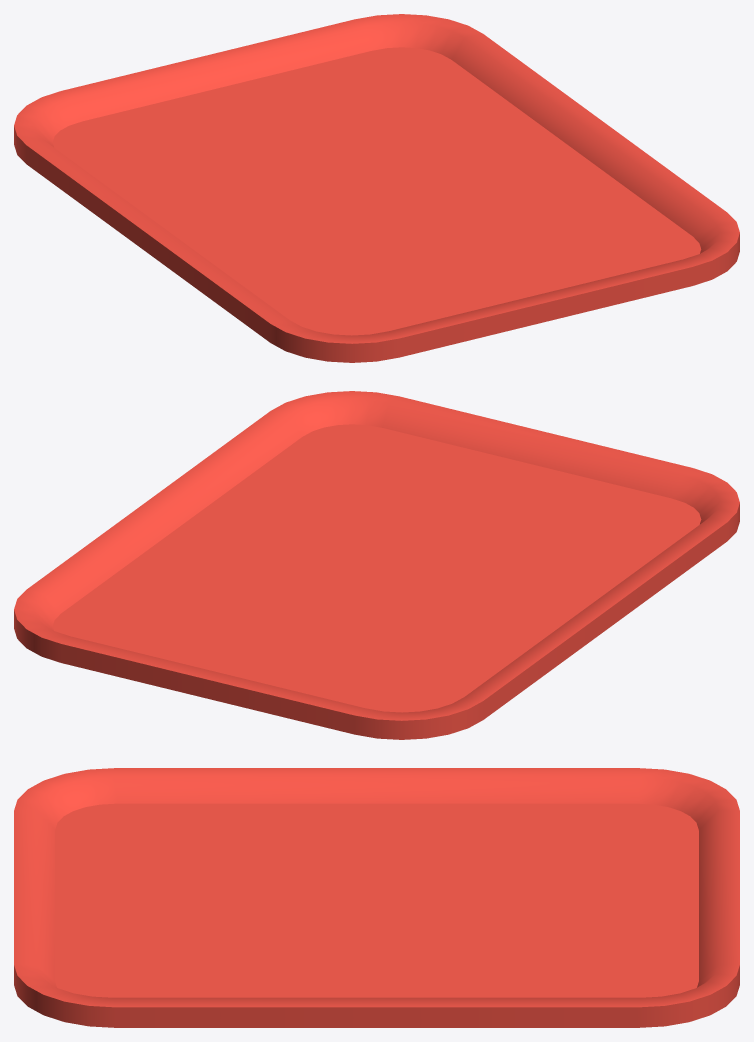
Rendered from prop_tray.fbx.
3 renders of one model, top to bottom at view 1: azimuth 30°, elevation 25°; view 2: azimuth 150°, elevation 25°; view 3: azimuth 270°, elevation 25°, orthographic. The views are drawn at different scales.
Visible parts, largest first — view 1: Cube.010; view 2: Cube.010; view 3: Cube.010.
Boxes of the visible parts, left/top/right/bottom form: Cube.010: left=14, top=14, right=739, bottom=362; Cube.010: left=14, top=391, right=739, bottom=739; Cube.010: left=14, top=768, right=739, bottom=1027.
Size of the model in its own units: 0.7526 by 0.0301 by 0.9652.
